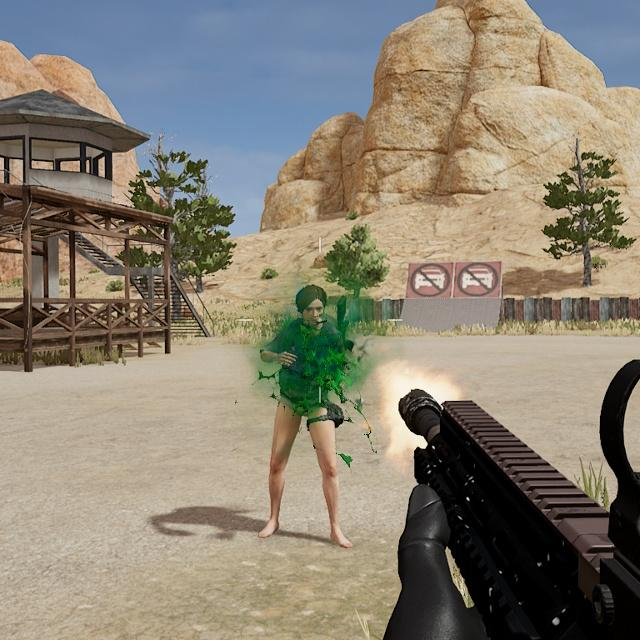head: (292, 280, 336, 337)
people: (252, 279, 367, 555)
